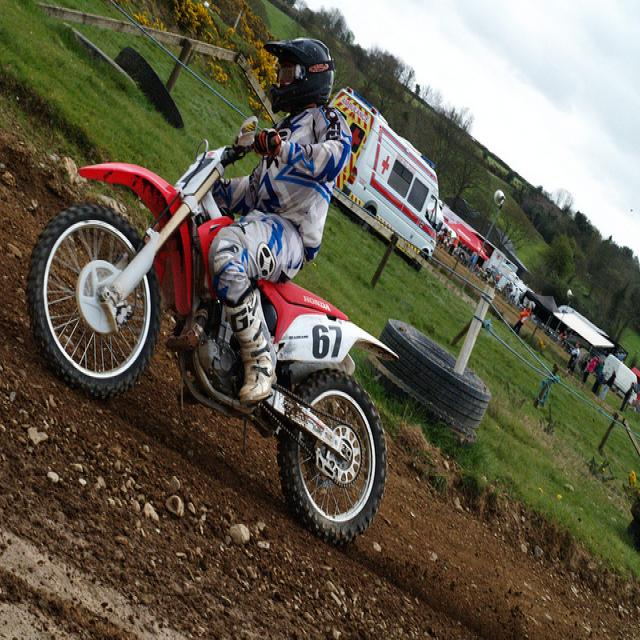motor: (28, 119, 389, 543)
